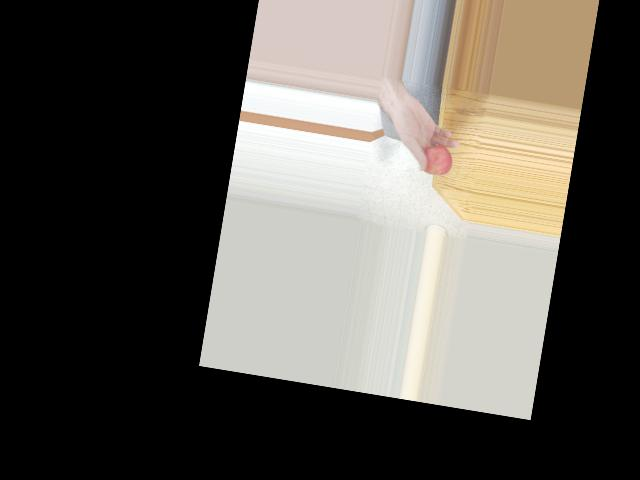apple: (419, 141, 455, 180)
